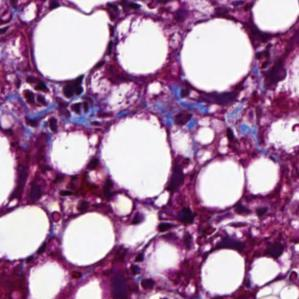inflammation: (16, 68, 89, 131), (165, 87, 223, 139), (155, 197, 203, 243)
